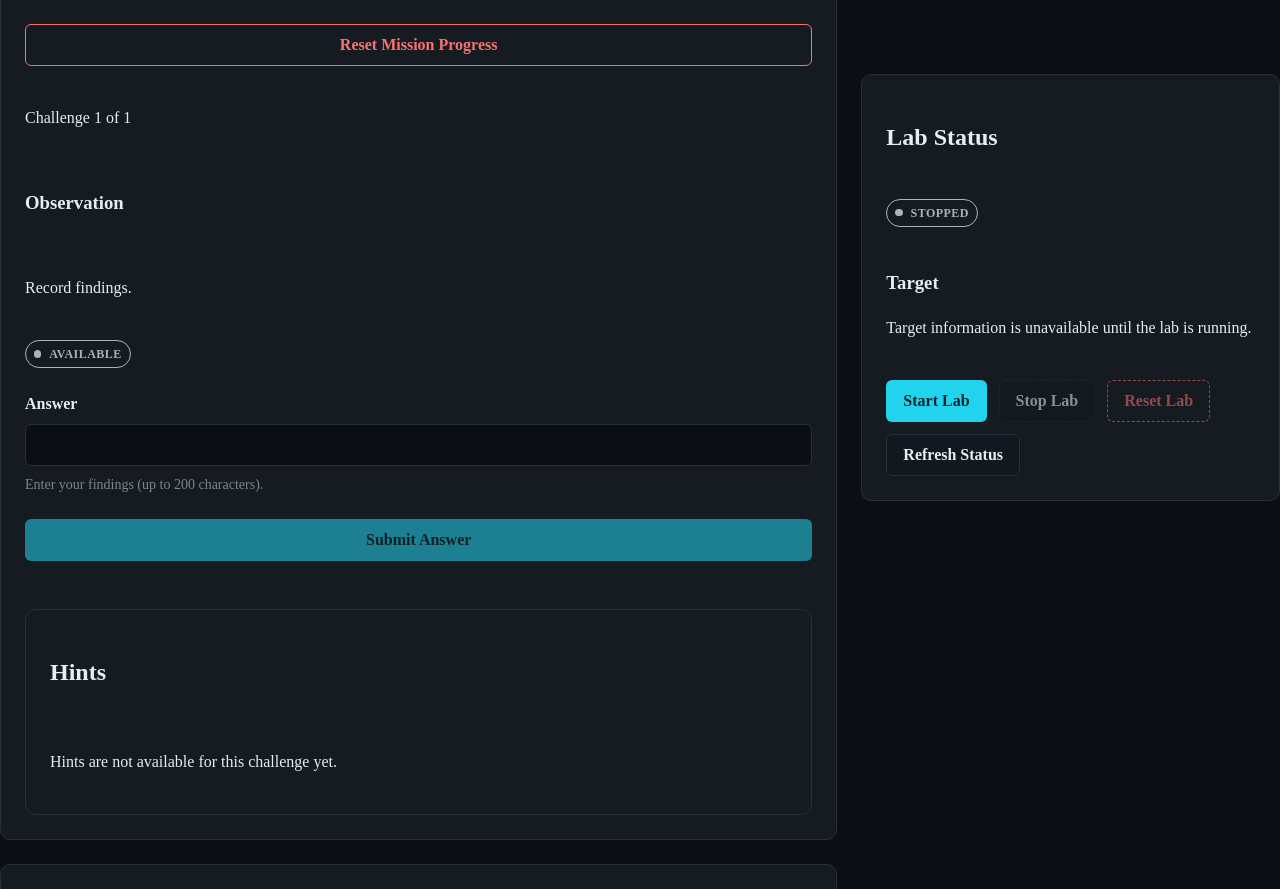
it: waits for refreshed backend completion before showing the modal
(page scrolled)
Type "fixture finding" into the field at (419, 445), box [25,424,812,466]
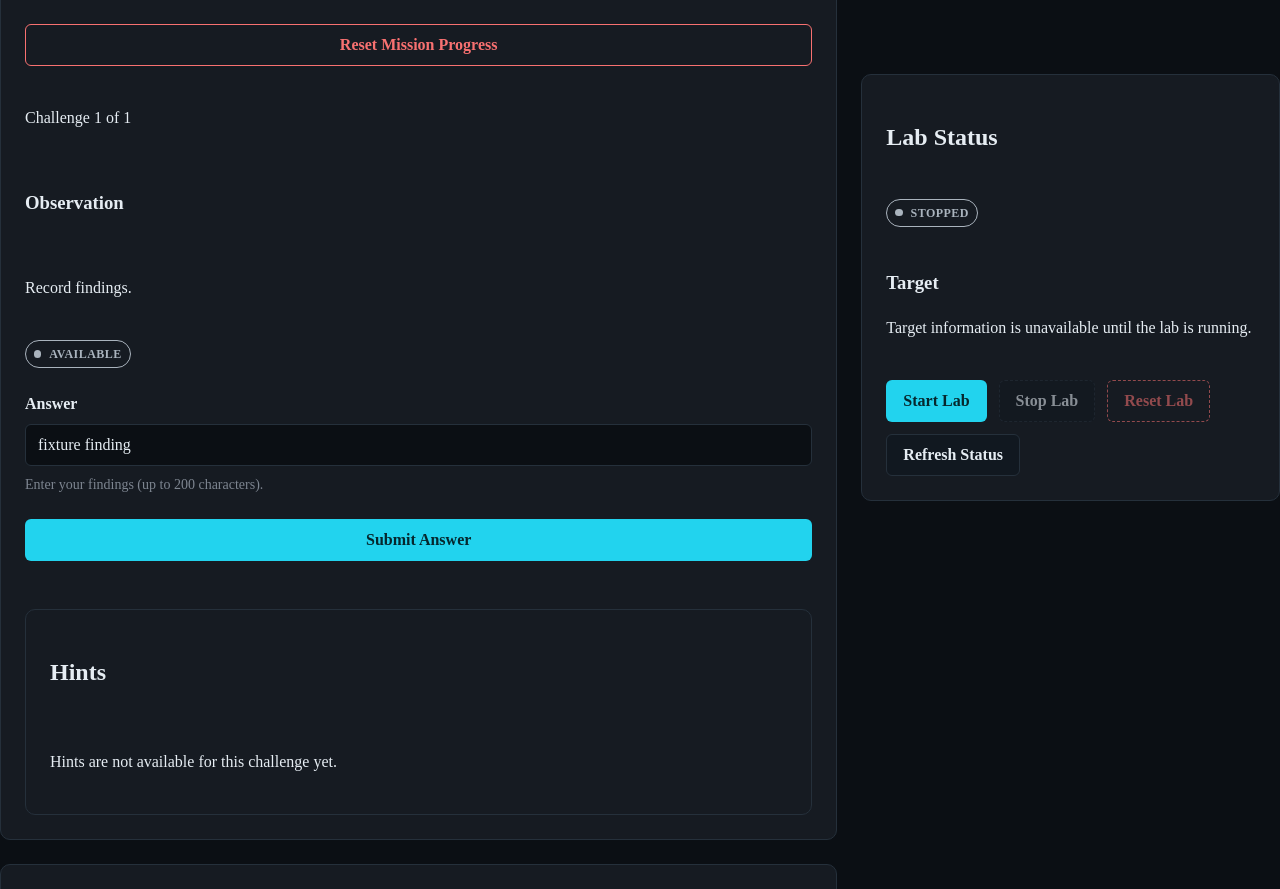
Click the button "Submit Answer" at (419, 540), box [25,519,812,561]
(page scrolled)
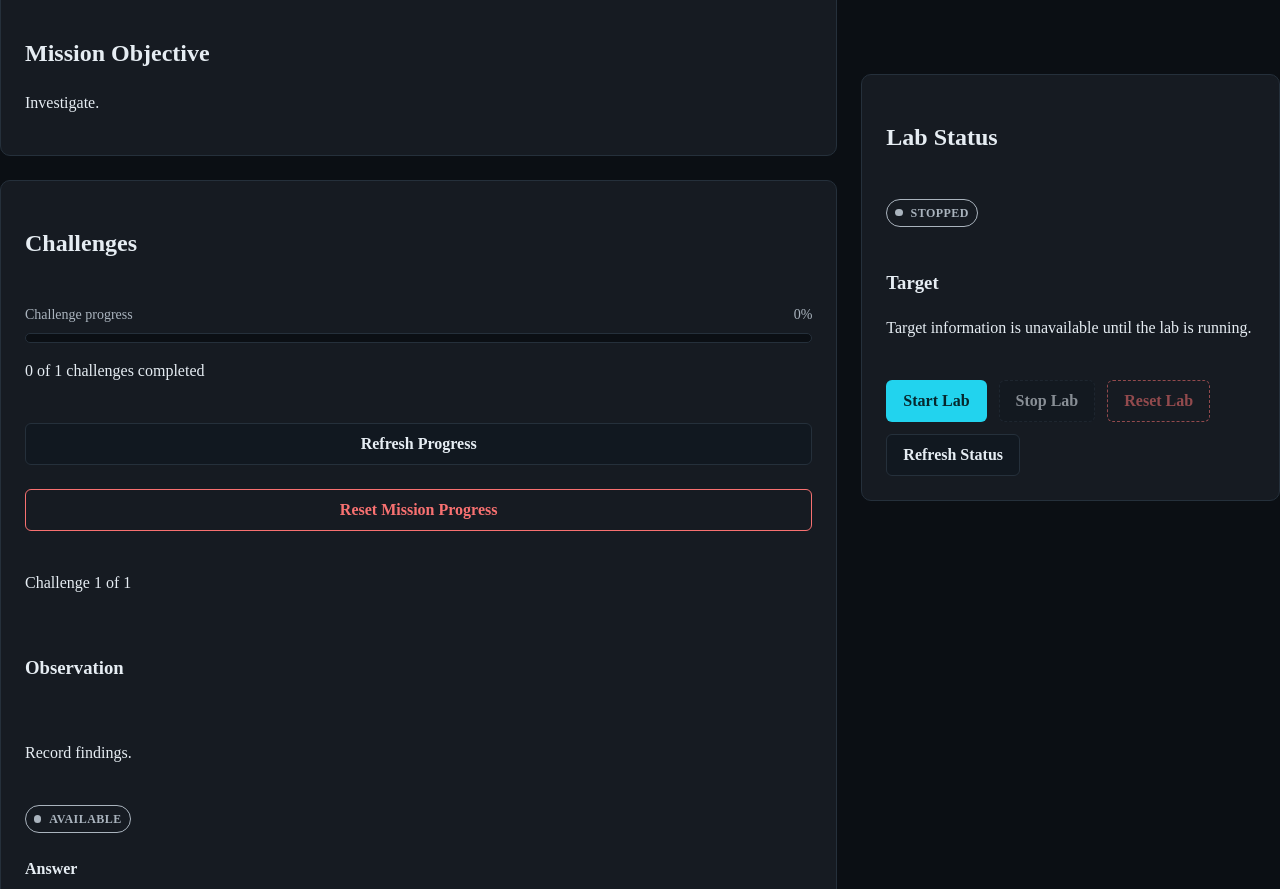
Click the button "Refresh Progress" at (419, 444), box [25,423,812,465]
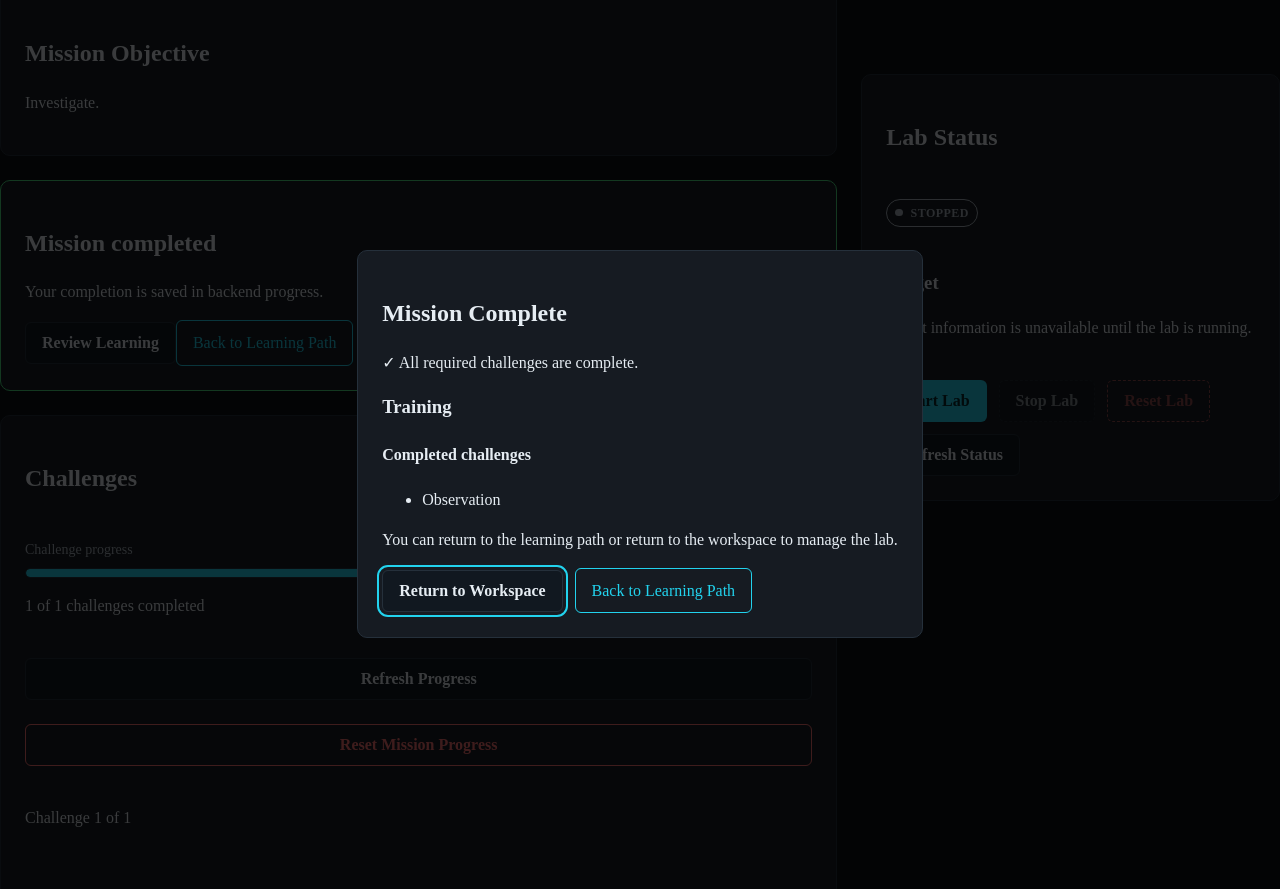
Expected: the dialog "Mission Complete" is shown, [357,250,923,638]
Click the button "Return to Workspace" at (472, 591), box [382,570,563,612]
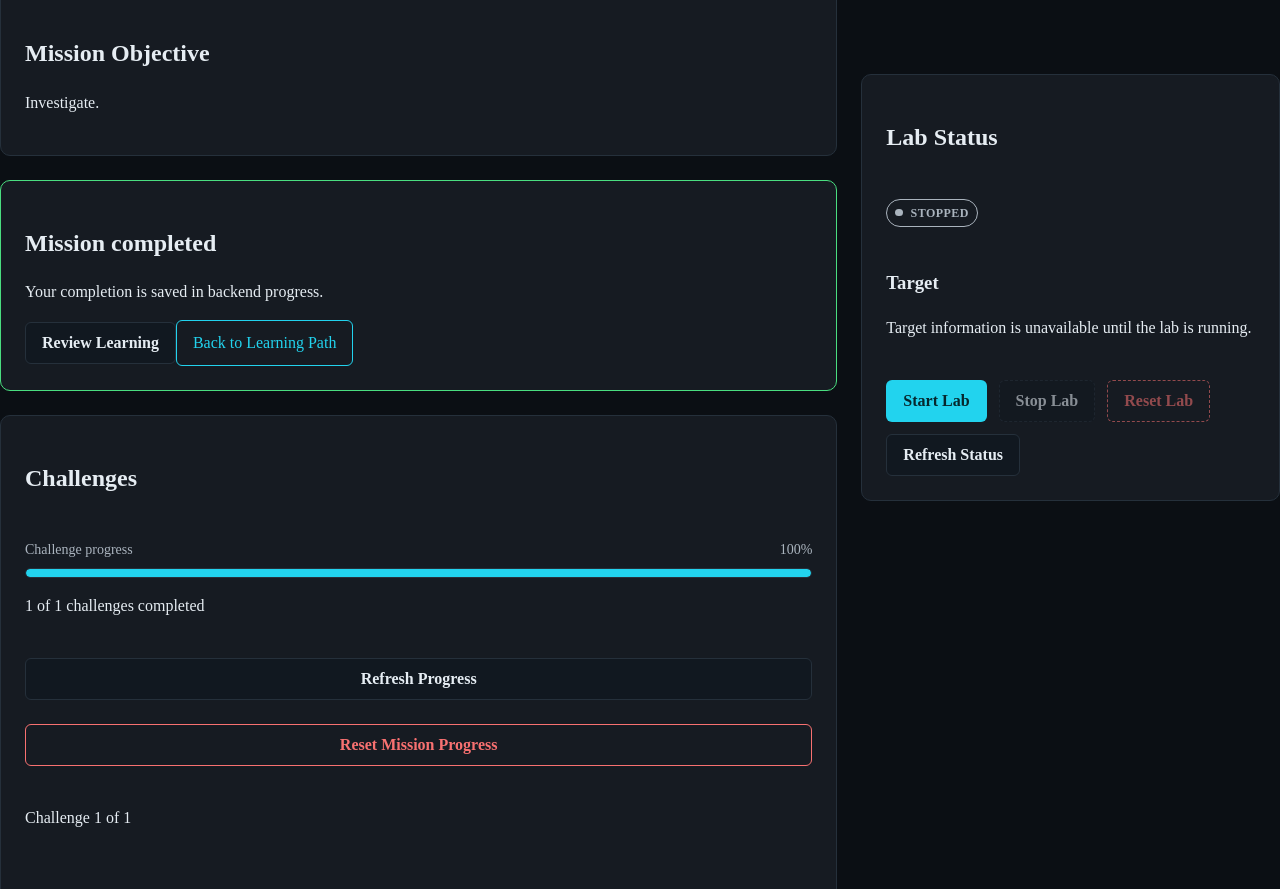
Expected: the button "Start Lab" is shown, [886,380,986,422]
Expected: the dialog is gone
